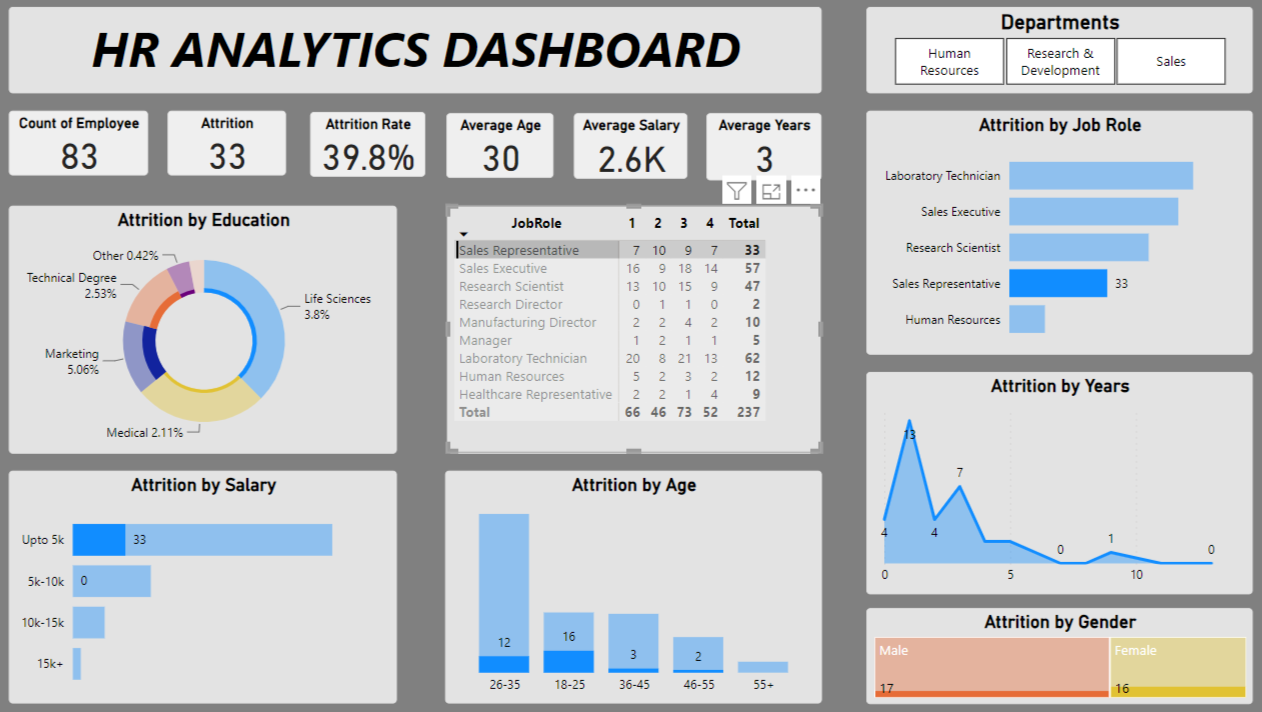

The page's visual inventory and layout, read from the dashboard file:
{"tool":"powerbi","page":{"name":"Page 1","canvas":[1280,720],"ordinal":0},"visuals":[{"type":"card","title":"Count of Employee","fields":{"Values":["CountNonNull(HR_Analytics.EmpID)"]},"box":[17,113.8,139.4,64.9],"z":0},{"type":"card","title":"Attrition","fields":{"Values":["Sum(HR_Analytics.AttritionCount)"]},"box":[176.6,113.8,118.1,64.9],"z":1000},{"type":"card","title":"Attrition Rate","fields":{"Values":["HR_Analytics.AttritionRate"]},"box":[319.1,114.9,114.9,64.9],"z":2000},{"type":"card","title":"Average Age ","fields":{"Values":["Avg(HR_Analytics.Age)"]},"box":[455.3,116,107.4,64.9],"z":3000},{"type":"card","title":"Average Salary","fields":{"Values":["Avg(HR_Analytics.MonthlyIncome)"]},"box":[583,116,113.8,66],"z":4000},{"type":"card","title":"Average Years ","fields":{"Values":["Avg(HR_Analytics.YearsAtCompany)"]},"box":[714.9,116,114.9,67],"z":5000},{"type":"donutChart","title":"Attrition by Education","fields":{"Category":["HR_Analytics.EducationField"],"Y":["Sum(HR_Analytics.AttritionCount)"]},"box":[17,208.5,388.3,247.9],"z":6000},{"type":"columnChart","title":"Attrition by Age","fields":{"Category":["HR_Analytics.AgeGroup"],"Y":["Sum(HR_Analytics.AttritionCount)"]},"box":[453.2,473.4,376.6,233],"z":7000},{"type":"pivotTable","fields":{"Rows":["HR_Analytics.JobRole"],"Columns":["HR_Analytics.JobSatisfaction"],"Values":["Sum(HR_Analytics.AttritionCount)"]},"box":[455.3,208.5,374.5,247.9],"z":8000},{"type":"barChart","title":"Attrition by Salary","fields":{"Category":["HR_Analytics.SalarySlab"],"Y":["Sum(HR_Analytics.AttritionCount)"]},"box":[17,473.4,388.3,233],"z":9000},{"type":"barChart","title":"Attrition by Job Role","fields":{"Category":["HR_Analytics.JobRole"],"Y":["Sum(HR_Analytics.AttritionCount)"]},"box":[875.5,113.8,386.2,243.6],"z":10000},{"type":"areaChart","title":"Attrition by Years","fields":{"Category":["HR_Analytics.YearsAtCompany"],"Y":["Sum(HR_Analytics.AttritionCount)"]},"box":[875,375,386.2,222.5],"z":11000},{"type":"treemap","title":"Attrition by Gender","fields":{"Group":["HR_Analytics.Gender"],"Values":["Sum(HR_Analytics.AttritionCount)"]},"box":[875.5,610.6,386.2,95.7],"z":12000},{"type":"slicer","title":"Departments","fields":{"Values":["HR_Analytics.Department"]},"box":[875.5,9.6,386.2,86.2],"z":13000},{"type":"textbox","box":[17,9.6,812.8,86.2],"z":14000}]}

Visuals, with their boxes in screenshot pixels (x1, y1, x2, y2), scaled from the page's 1280x720 canvas onto the 1262x712 screenshot:
"Count of Employee" card: (17, 113, 154, 177)
"Attrition" card: (174, 113, 291, 177)
"Attrition Rate" card: (315, 114, 428, 178)
"Average Age " card: (449, 115, 555, 179)
"Average Salary" card: (575, 115, 687, 180)
"Average Years " card: (705, 115, 818, 181)
"Attrition by Education" donutChart: (17, 206, 400, 451)
"Attrition by Age" columnChart: (447, 468, 818, 699)
pivotTable - HR_Analytics.JobRole x HR_Analytics.JobSatisfaction: (449, 206, 818, 451)
"Attrition by Salary" barChart: (17, 468, 400, 699)
"Attrition by Job Role" barChart: (863, 113, 1244, 353)
"Attrition by Years" areaChart: (863, 371, 1243, 591)
"Attrition by Gender" treemap: (863, 604, 1244, 698)
"Departments" slicer: (863, 9, 1244, 95)
textbox: (17, 9, 818, 95)
